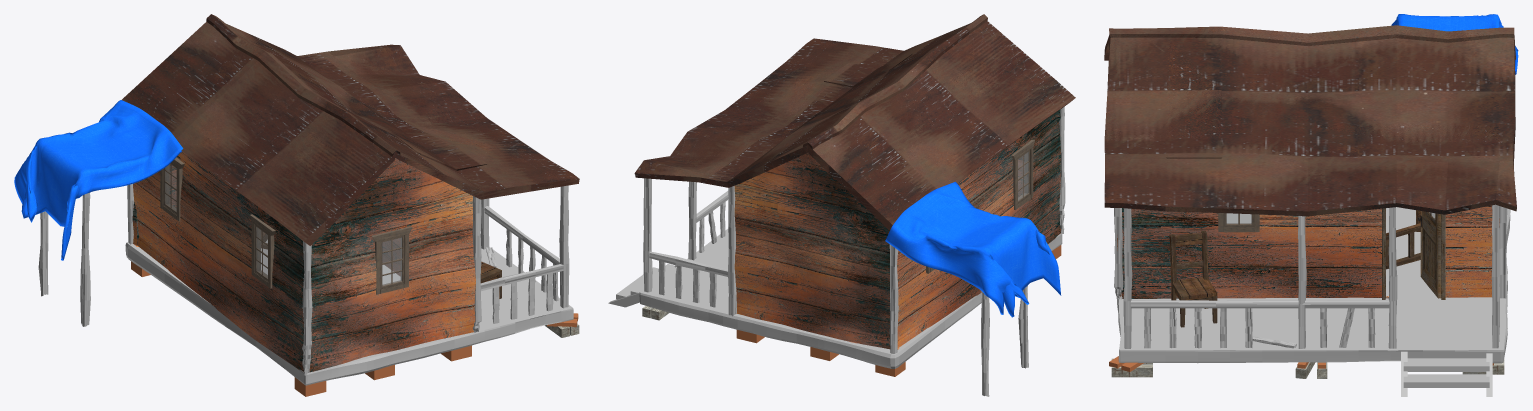
3 renders of one model, left to right at view 1: azimuth 30°, elevation 25°; view 2: azimuth 150°, elevation 25°; view 3: azimuth 270°, elevation 25°, orthographic. The views are drawn at different scales.
Visible parts, largest first — view 1: Cube.002, Plane, Cube.004, Cube.037, window.004, Cube.028, window.001, window.002, window.003; view 2: Cube.002, Plane, Cube.004, Cube.037, Cube.028, window.004, Cube.011, window.002; view 3: Cube.002, Cube.004, Cube.011, chair.001, Door_1, Plane, Cube.037, Cube.028, Door_2, chair, window.004, window.
Part boxes in pixels (x1,y1,x2,y2): Cube.002: (122,14,579,385); Plane: (14,100,183,260); Cube.004: (480,185,569,323); Cube.037: (38,184,481,375); window.004: (160,157,412,294); Cube.028: (131,261,579,396); window.001: (381,236,403,287); window.002: (255,225,268,280); window.003: (164,163,176,213); Cube.002: (634,14,1075,368); Plane: (885,181,1061,317); Cube.004: (643,178,728,307); Cube.037: (728,107,1065,396); Cube.028: (642,245,1061,376); window.004: (926,139,1035,273); Cube.011: (608,264,676,307); window.002: (1017,150,1029,202); Cube.002: (1104,25,1516,363); Cube.004: (1123,204,1499,348); Cube.011: (1401,351,1492,396); chair.001: (1169,230,1217,327); Door_1: (1418,211,1440,298); Plane: (1391,14,1518,74); Cube.037: (1114,206,1507,299); Cube.028: (1109,356,1504,378); Door_2: (1382,208,1445,299); chair: (1386,218,1434,269); window.004: (1218,213,1259,232); window: (1224,213,1253,226).
Size of the model in its own units: 7.58 by 3.95 by 5.8.
